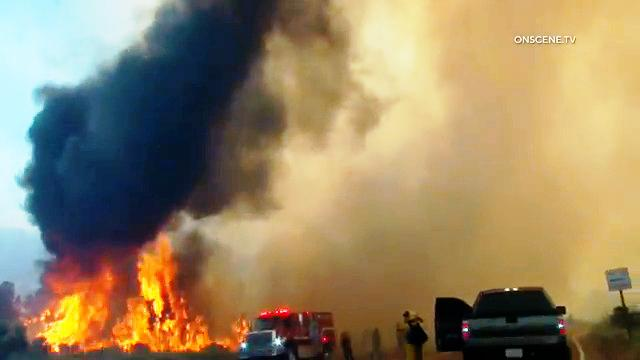fire: (37, 242, 227, 354)
smoke: (15, 5, 427, 243)
